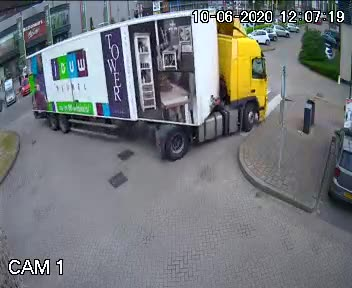car: (15, 15, 276, 157)
